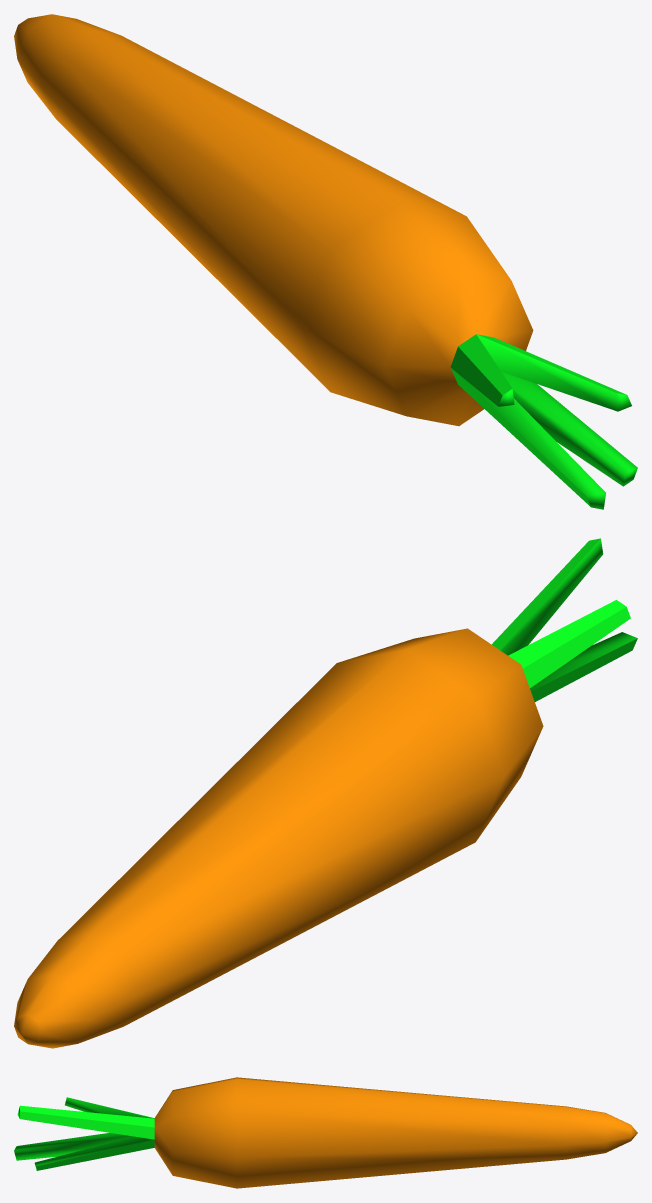
Rendered from Carrot.fbx.
3 renders of one model, top to bottom at view 1: azimuth 30°, elevation 25°; view 2: azimuth 150°, elevation 25°; view 3: azimuth 270°, elevation 25°, orthographic. The views are drawn at different scales.
Parts seen in each view (by area): view 1: Carrot; view 2: Carrot; view 3: Carrot.
Boxes of the visible parts, box(x1,y1,x2,y2) form: Carrot: box(14, 14, 637, 509); Carrot: box(14, 538, 637, 1048); Carrot: box(14, 1077, 637, 1188).
Bounding box in the file's own units: 90.82 × 90.82 × 479.
